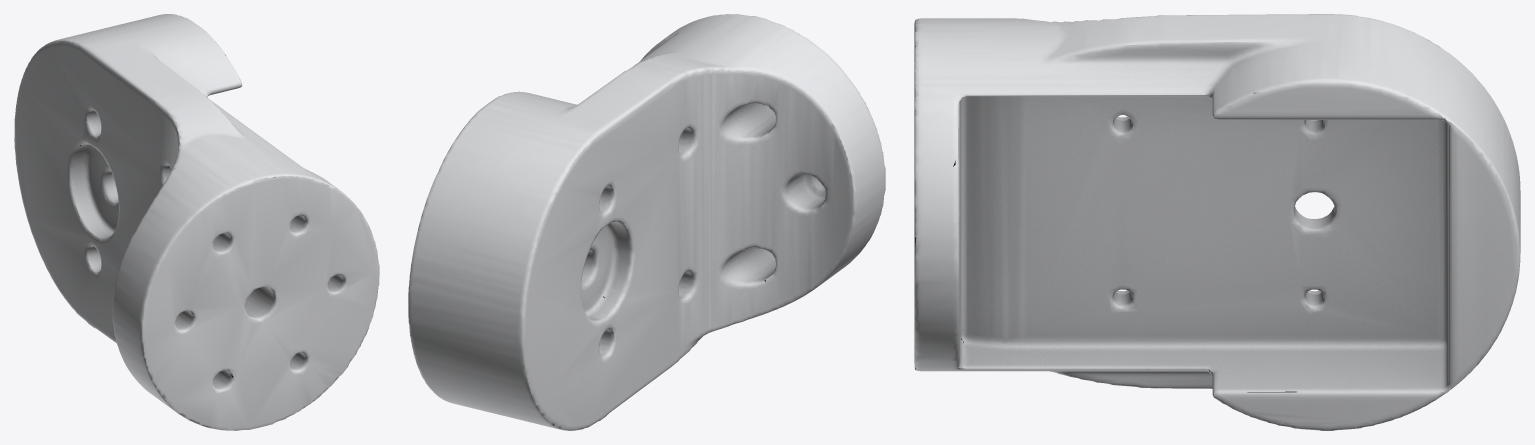
Rendered from right_shoulder.glb.
The picture shows the model from 3 angles, left to right: view 1: azimuth 30°, elevation 25°; view 2: azimuth 150°, elevation 25°; view 3: azimuth 270°, elevation 25°; orthographic projection. The views are drawn at different scales.
Parts seen in each view (by area): view 1: right_shoulder; view 2: right_shoulder; view 3: right_shoulder.
Boxes of the visible parts, left/top/right/bottom form: right_shoulder: left=14, top=14, right=379, bottom=430; right_shoulder: left=408, top=14, right=885, bottom=430; right_shoulder: left=914, top=14, right=1520, bottom=430.
Size of the model in its own units: 0.0615 by 0.0677 by 0.1057.
Materials: 1 (1 with a texture image).
